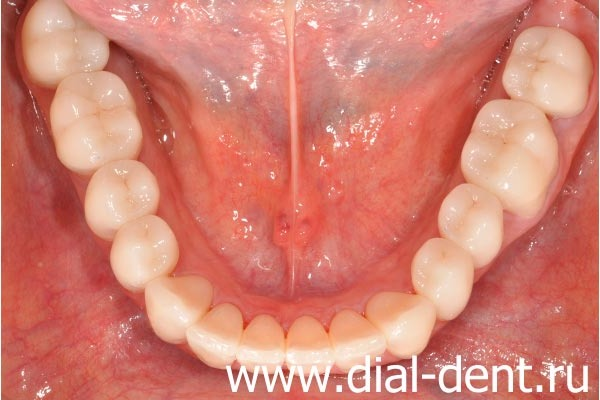LL1BC_healthy: (419, 239, 471, 315)
LL1M_healthy: (464, 101, 557, 202)
LL2BC_healthy: (435, 182, 506, 262)
LL2M_healthy: (505, 29, 593, 112)
LLCI_healthy: (288, 315, 331, 363)
LLC_healthy: (372, 291, 437, 351)
LLLI_healthy: (328, 310, 383, 354)
LR1BC_healthy: (110, 220, 177, 282)
LR1M_healthy: (59, 76, 137, 167)
LR2BC_healthy: (86, 162, 159, 223)
LR2M_healthy: (28, 4, 113, 73)
LRCI_healthy: (241, 314, 285, 362)
LRC_healthy: (142, 271, 202, 334)
LRLI_healthy: (197, 307, 239, 364)
